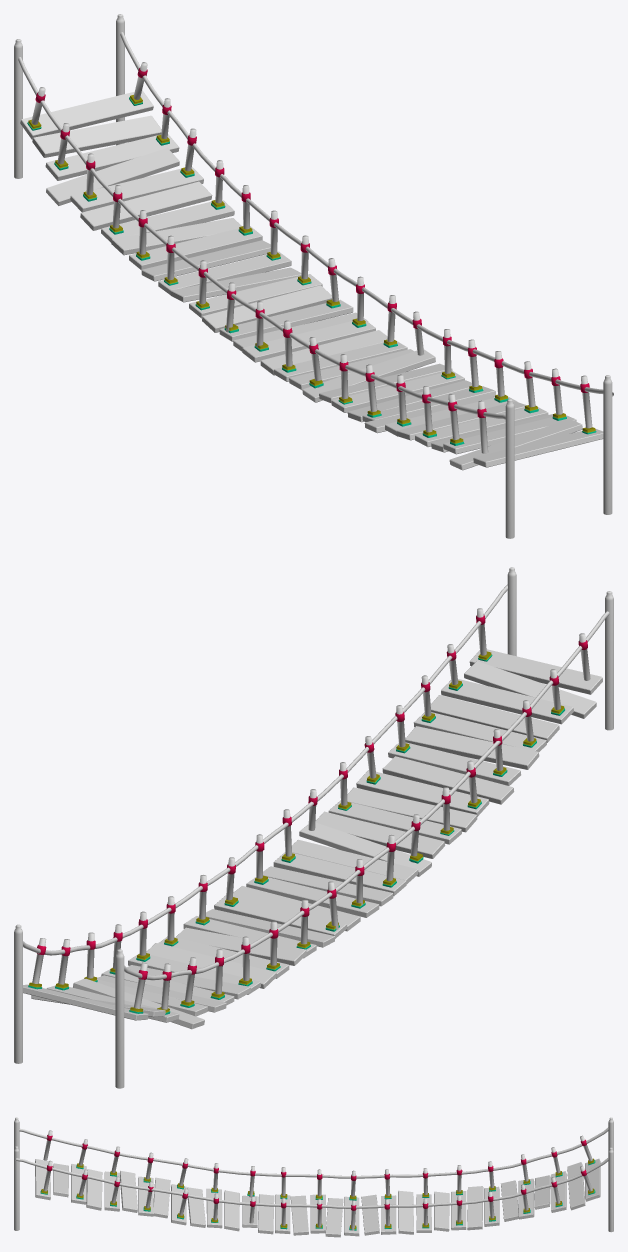
Rendered from Bridge.FBX.
The picture shows the model from 3 angles, top to bottom: view 1: azimuth 30°, elevation 25°; view 2: azimuth 150°, elevation 25°; view 3: azimuth 270°, elevation 25°; orthographic projection. The views are drawn at different scales.
Visible parts, largest first — view 1: Object018; view 2: Object018; view 3: Object018.
Boxes of the visible parts, x1=… form: Object018: x1=14, y1=14, x2=613, y2=538; Object018: x1=14, y1=567, x2=613, y2=1088; Object018: x1=14, y1=1117, x2=613, y2=1237.
Size of the model in its own units: 15.29 by 15.16 by 95.59.
